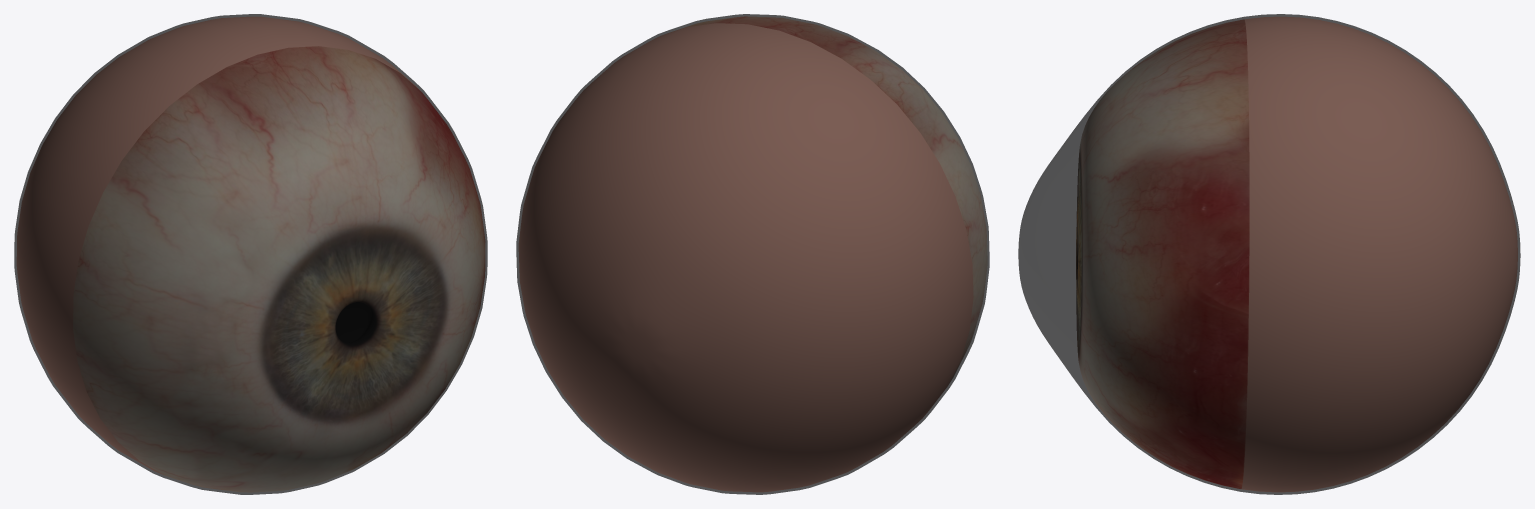
The model's file is eye.glb.
The picture shows the model from 3 angles, left to right: view 1: azimuth 30°, elevation 25°; view 2: azimuth 150°, elevation 25°; view 3: azimuth 270°, elevation 25°; orthographic projection.
Visible parts, largest first — view 1: Eye_1_R, Eye_2_R; view 2: Eye_1_R, Eye_2_R; view 3: Eye_1_R, Eye_2_R.
Part boxes in pixels (x1,y1,x2,y2): Eye_1_R: (14, 14, 487, 494); Eye_2_R: (16, 16, 485, 492); Eye_1_R: (516, 14, 989, 494); Eye_2_R: (518, 16, 987, 492); Eye_1_R: (1018, 14, 1520, 494); Eye_2_R: (1076, 16, 1517, 492).
Size of the model in its own units: 0.1563 by 0.1596 by 0.1659.
Materials: 2 (1 with a texture image).
